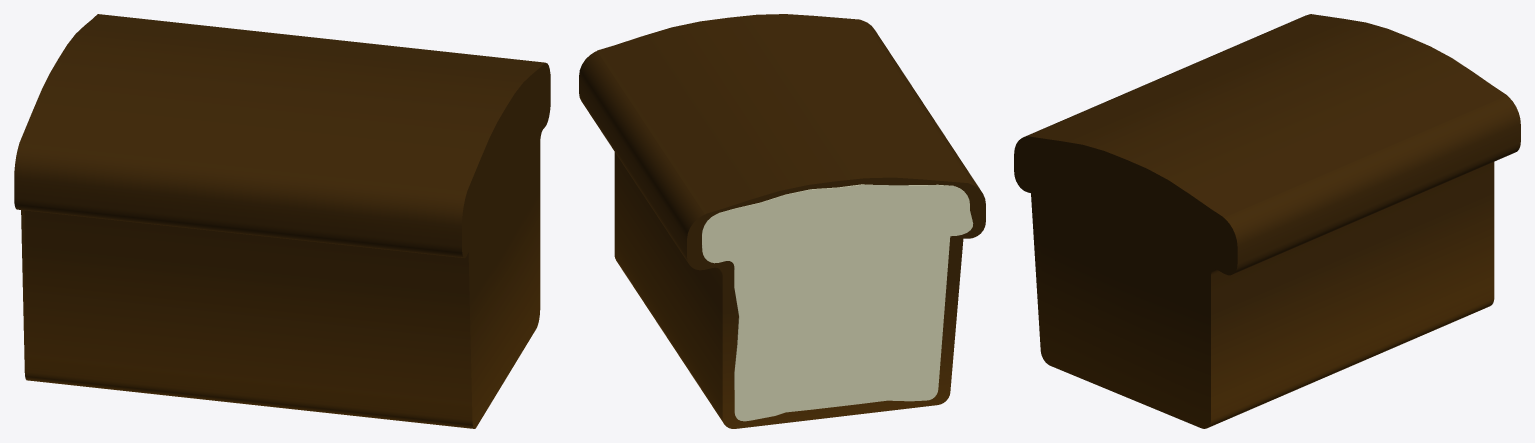
File: madstore_bread.fbx
3 views of the same model, side by side, from view 1: azimuth 30°, elevation 25°; view 2: azimuth 150°, elevation 25°; view 3: azimuth 270°, elevation 25° (orthographic). The views are drawn at different scales.
Parts seen in each view (by area): view 1: Cube; view 2: Cube; view 3: Cube.
Part boxes in pixels (x1=…): Cube: x1=14, y1=14, x2=550, y2=428; Cube: x1=579, y1=14, x2=985, y2=428; Cube: x1=1014, y1=14, x2=1520, y2=428.
Bounding box in the file's own units: 702 × 362 × 700.
2 materials, 1 textured.
